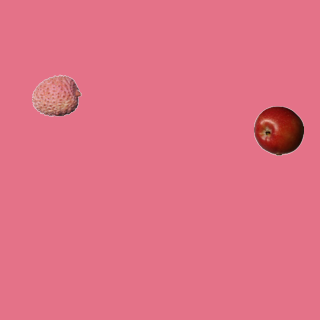Apple Braeburn: (253, 105, 303, 155)
Lychee: (31, 70, 81, 120)
